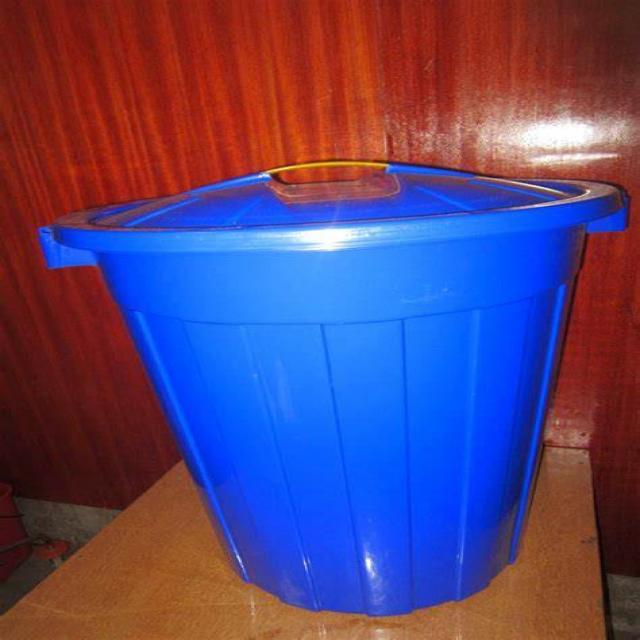garbage container: (20, 132, 640, 618)
